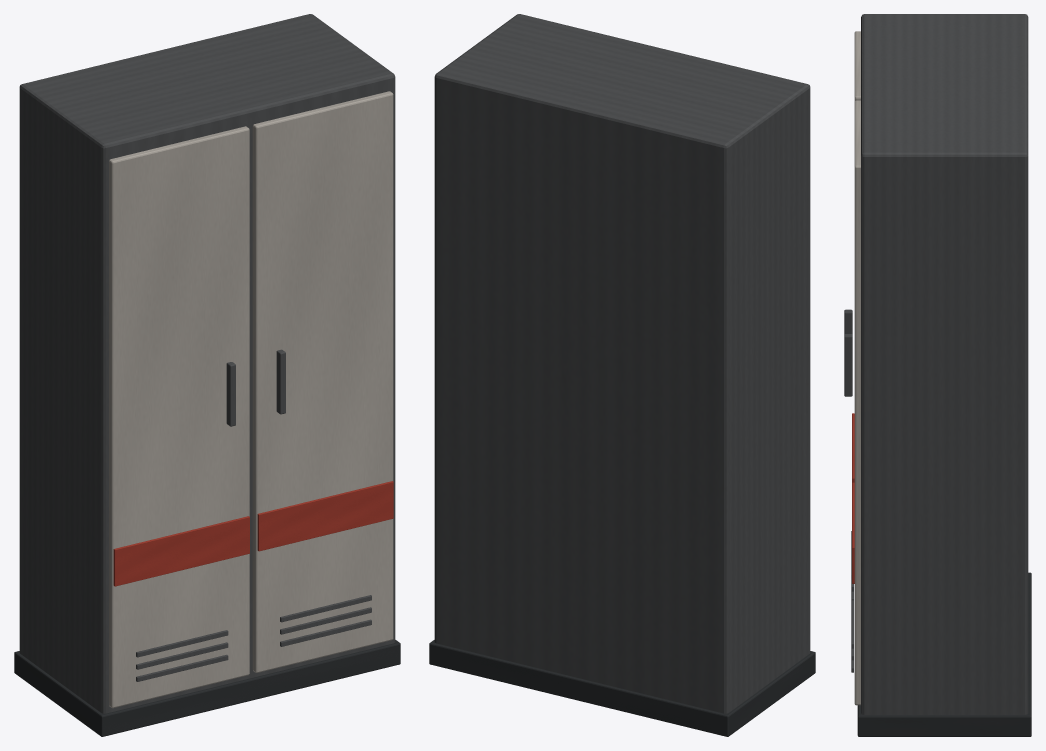
File: storage_cabinet.glb
The picture shows the model from 3 angles, left to right: view 1: azimuth 30°, elevation 25°; view 2: azimuth 150°, elevation 25°; view 3: azimuth 270°, elevation 25°; orthographic projection.
Parts seen in each view (by area): view 1: cabinet_shell, cabinet_door.001, cabinet_door, base.022, door_red_band.001, door_red_band, handle.010, handle.011; view 2: cabinet_shell, base.022; view 3: cabinet_shell, base.022, cabinet_door.001, handle.011, cabinet_door.
Boxes of the visible parts, x1,y1,x2,y2 form: cabinet_shell: [19, 14, 395, 713]; cabinet_door.001: [252, 91, 393, 672]; cabinet_door: [109, 126, 249, 707]; base.022: [14, 640, 400, 736]; door_red_band.001: [257, 481, 393, 551]; door_red_band: [113, 516, 249, 586]; handle.010: [226, 362, 235, 426]; handle.011: [276, 349, 285, 414]; cabinet_shell: [434, 14, 810, 713]; base.022: [429, 640, 815, 736]; cabinet_shell: [861, 14, 1028, 714]; base.022: [857, 572, 1031, 736]; cabinet_door.001: [854, 100, 860, 705]; handle.011: [844, 334, 852, 396]; cabinet_door: [854, 31, 860, 101].
Size of the model in its own units: 1.02 by 1.92 by 0.5605.
4 materials, 4 textured.
